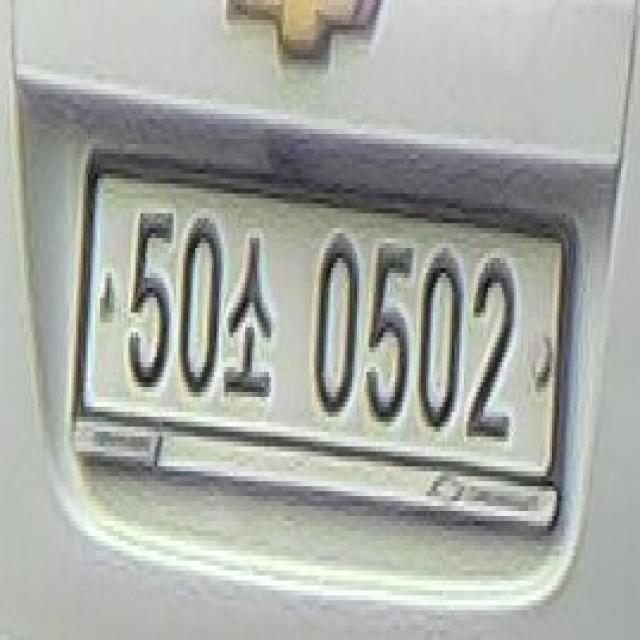0: (312, 222, 357, 420), (418, 240, 461, 439), (180, 206, 219, 396)
2: (465, 248, 523, 446)
5: (364, 235, 413, 430), (126, 202, 173, 390)
license_plate: (66, 137, 581, 522)
so: (223, 212, 278, 412)
